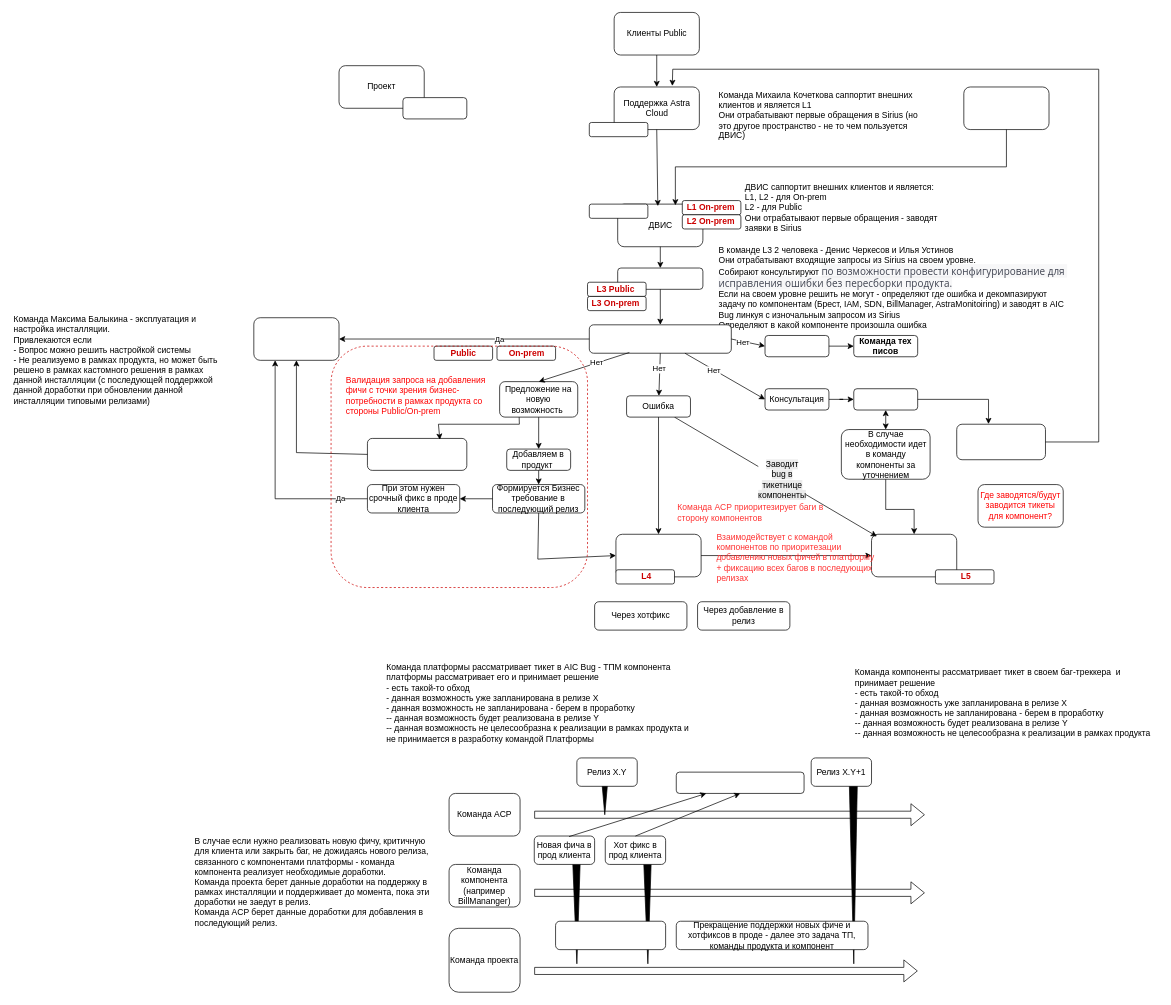
Some shapes in this 1171 by 1005 pixel diagram are drawn without their labels. The box of each missing label's shape, as (x1, y1, x2, y2) in pixels:
L1 Public: (589, 122, 648, 137)
L2 Public: (589, 203, 648, 218)
Вопрос можно решить настройкой системы: (589, 324, 731, 353)
Запрос на доки: (764, 335, 829, 357)
Клиенты On-prem: (963, 86, 1049, 130)
Команда Astra Cloud Platform: (615, 534, 701, 577)
Команда L3 Astra Cloud: (617, 267, 703, 289)
Команда Компоненты (например Bootsman): (871, 534, 957, 577)
Команда пресейлов: (853, 388, 918, 410)
Команда эксплуатация: (253, 317, 339, 360)
Мердж новых фичей и хот фиксов: (676, 771, 804, 793)
Не добавляем в продукт, но делаем для данного клиента: (367, 438, 467, 470)
Поддержка новых фичей и хотфиксов в проде клиента: (555, 921, 666, 950)
ПСБ: (402, 97, 467, 119)
Формировать Базу знаний: (956, 424, 1045, 460)
